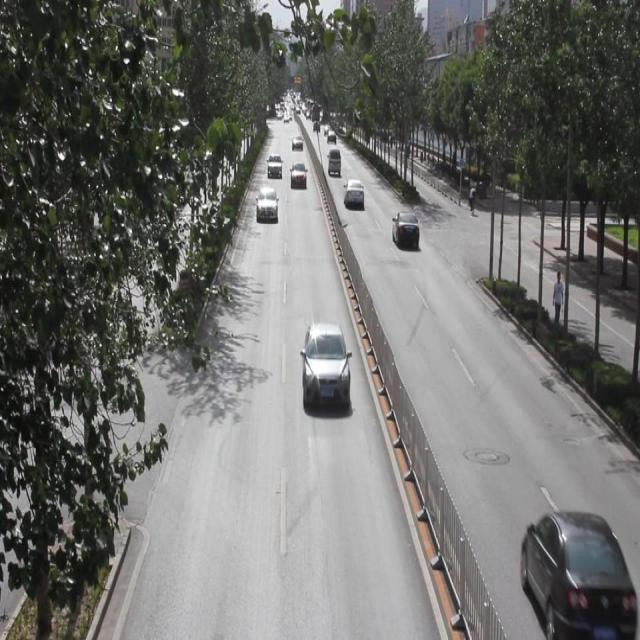car: (518, 507, 640, 639), (302, 324, 348, 408), (392, 211, 419, 250), (255, 186, 278, 224), (342, 178, 364, 208), (289, 161, 308, 189), (267, 150, 282, 181), (326, 127, 336, 144), (292, 133, 302, 149)
truck: (327, 147, 341, 174)
